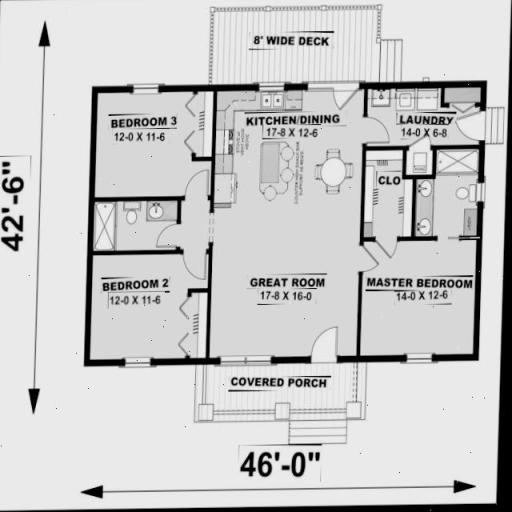bedroom: (366, 247, 476, 359), (92, 255, 202, 362), (99, 94, 207, 196)
hall: (218, 219, 356, 359)
kitchen: (218, 96, 356, 214)
laundary: (368, 86, 479, 148)
porch: (199, 366, 366, 422)
